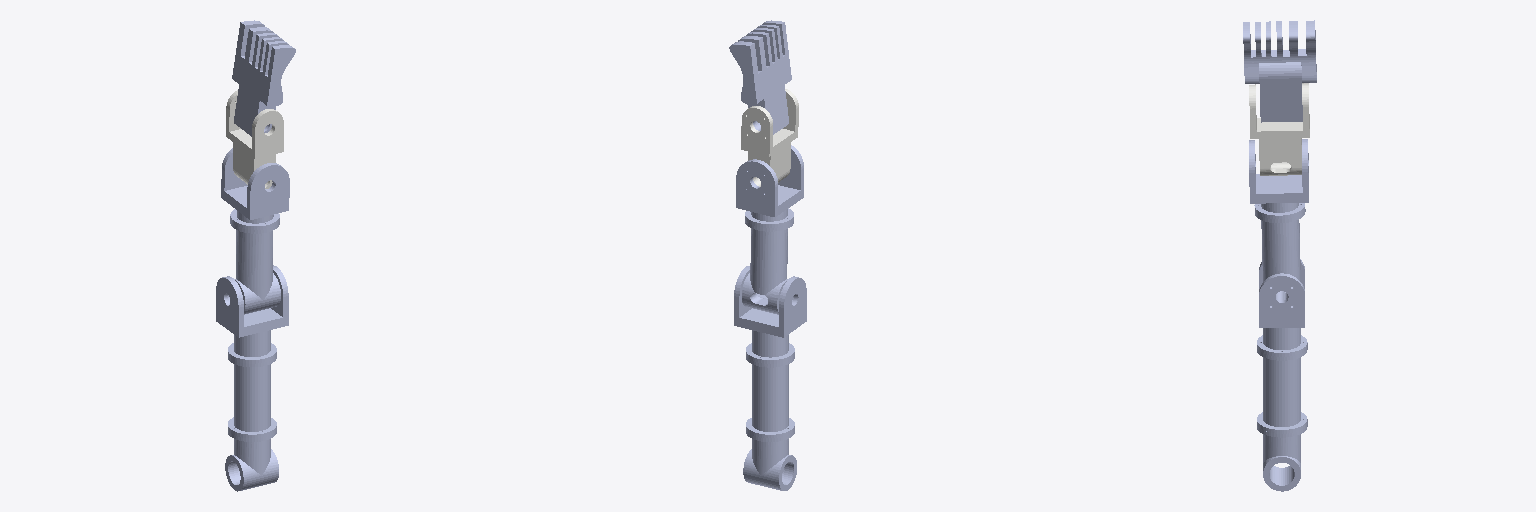
robot.urdf — assembledtwo:
<?xml version="1.0" encoding="utf-8"?>
<!-- This URDF was automatically created by SolidWorks to URDF Exporter! Originally created by [author] ([email redacted]) 
     Commit Version: 1.5.1-0-g916b5db  Build Version: 1.5.7152.31018
     For more information, please see http://wiki.ros.org/sw_urdf_exporter -->
<robot
  name="assembledtwo">
  <link
    name="base_link">
    <inertial>
      <origin
        xyz="-0.029652 -0.29014 0.14653"
        rpy="0 0 0" />
      <mass
        value="0.43373" />
      <inertia
        ixx="0.00040447"
        ixy="-9.1851E-12"
        ixz="4.4606E-07"
        iyy="0.00043971"
        iyz="2.0884E-12"
        izz="0.00018319" />
    </inertial>
    <visual>
      <origin
        xyz="0 0 0"
        rpy="0 0 0" />
      <geometry>
        <mesh
          filename="package://assembledtwo/meshes/base_link.STL" />
      </geometry>
      <material
        name="ABS">
        <color
          rgba="0.79216 0.81961 0.93333 1" />
      </material>
    </visual>
    <collision>
      <origin
        xyz="0 0 0"
        rpy="0 0 0" />
      <geometry>
        <mesh
          filename="package://assembledtwo/meshes/base_link.STL" />
      </geometry>
    </collision>
  </link>
  <link
    name="First_link">
    <inertial>
      <origin
        xyz="-0.00022485 0.075247 -0.027124"
        rpy="0 0 0" />
      <mass
        value="0.32355" />
      <inertia
        ixx="0.00038047"
        ixy="-2.8639E-06"
        ixz="-7.5251E-10"
        iyy="0.0001506"
        iyz="1.591E-09"
        izz="0.00041126" />
    </inertial>
    <visual>
      <origin
        xyz="0 0 0"
        rpy="0 0 0" />
      <geometry>
        <mesh
          filename="package://assembledtwo/meshes/First_link.STL" />
      </geometry>
      <material
        name="ABS">
        <color
          rgba="0.79216 0.81961 0.93333 1" />
      </material>
    </visual>
    <collision>
      <origin
        xyz="0 0 0"
        rpy="0 0 0" />
      <geometry>
        <mesh
          filename="package://assembledtwo/meshes/First_link.STL" />
      </geometry>
    </collision>
  </link>
  <joint
    name="rev1"
    type="revolute">
    <origin
      xyz="0 -0.29014 0.2643"
      rpy="1.5708 -0.024407 1.5708" />
    <parent
      link="base_link" />
    <child
      link="First_link" />
    <axis
      xyz="0 0 1" />
    <limit
      lower="-1.571"
      upper="1.571"
      effort="0"
      velocity="0" />
  </joint>
  <link
    name="Second_link">
    <inertial>
      <origin
        xyz="-0.034341 3.4054E-05 0.0024757"
        rpy="0 0 0" />
      <mass
        value="0.1211" />
      <inertia
        ixx="6.2831E-05"
        ixy="-1.5813E-06"
        ixz="-1.1967E-07"
        iyy="0.00013324"
        iyz="-1.5058E-09"
        izz="9.5648E-05" />
    </inertial>
    <visual>
      <origin
        xyz="0 0 0"
        rpy="0 0 0" />
      <geometry>
        <mesh
          filename="package://assembledtwo/meshes/Second_link.STL" />
      </geometry>
      <material
        name="ABS">
        <color
          rgba="0.96471 0.96471 0.95294 1" />
      </material>
    </visual>
    <collision>
      <origin
        xyz="0 0 0"
        rpy="0 0 0" />
      <geometry>
        <mesh
          filename="package://assembledtwo/meshes/Second_link.STL" />
      </geometry>
    </collision>
  </link>
  <joint
    name="rev2"
    type="revolute">
    <origin
      xyz="0 0.16 -0.027124"
      rpy="-1.5708 -0.012065 -1.5708" />
    <parent
      link="First_link" />
    <child
      link="Second_link" />
    <axis
      xyz="0 0 1" />
    <limit
      lower="-1.571"
      upper="1.571"
      effort="0"
      velocity="0" />
  </joint>
  <link
    name="Third_link">
    <inertial>
      <origin
        xyz="0.00039817 0.00517 -0.048976"
        rpy="0 0 0" />
      <mass
        value="0.16034" />
      <inertia
        ixx="0.0002664"
        ixy="-7.9729E-09"
        ixz="1.114E-06"
        iyy="0.00019515"
        iyz="1.1835E-06"
        izz="8.7881E-05" />
    </inertial>
    <visual>
      <origin
        xyz="0 0 0"
        rpy="0 0 0" />
      <geometry>
        <mesh
          filename="package://assembledtwo/meshes/Third_link.STL" />
      </geometry>
      <material
        name="ABS">
        <color
          rgba="0.79216 0.81961 0.93333 1" />
      </material>
    </visual>
    <collision>
      <origin
        xyz="0 0 0"
        rpy="0 0 0" />
      <geometry>
        <mesh
          filename="package://assembledtwo/meshes/Third_link.STL" />
      </geometry>
    </collision>
  </link>
  <joint
    name="rev3"
    type="revolute">
    <origin
      xyz="-0.075 -0.0004747 0"
      rpy="1.5708 0 1.7261" />
    <parent
      link="Second_link" />
    <child
      link="Third_link" />
    <axis
      xyz="0 1 0" />
    <limit
      lower="-1.571"
      upper="1.571"
      effort="0"
      velocity="0" />
  </joint>
</robot>

--- Render facts (derived) ---
The picture shows the robot from 3 angles, left to right: view 1: azimuth 30°, elevation 25°; view 2: azimuth 150°, elevation 25°; view 3: azimuth 270°, elevation 25°; orthographic projection.
Robot: assembledtwo — 4 links, 3 joints (3 revolute); root link base_link; default pose: every joint at zero.
Links seen in each view (by area): view 1: base_link, First_link, Third_link, Second_link; view 2: base_link, First_link, Third_link, Second_link; view 3: base_link, Third_link, First_link, Second_link.
Link boxes in pixels (x1,y1,x2,y2): base_link: (216, 265, 288, 491); First_link: (221, 148, 289, 314); Third_link: (232, 20, 295, 136); Second_link: (226, 90, 283, 188); base_link: (734, 266, 806, 490); First_link: (736, 145, 803, 314); Third_link: (729, 20, 791, 134); Second_link: (741, 89, 798, 186); base_link: (1257, 259, 1307, 491); Third_link: (1243, 20, 1316, 122); First_link: (1249, 139, 1308, 305); Second_link: (1249, 83, 1309, 175).
Bounding box of the posed robot: 0.07 × 0.0869 × 0.6039 m (x, y, z).
4 mesh visuals loaded from 4 distinct referenced files (4 binary STL).